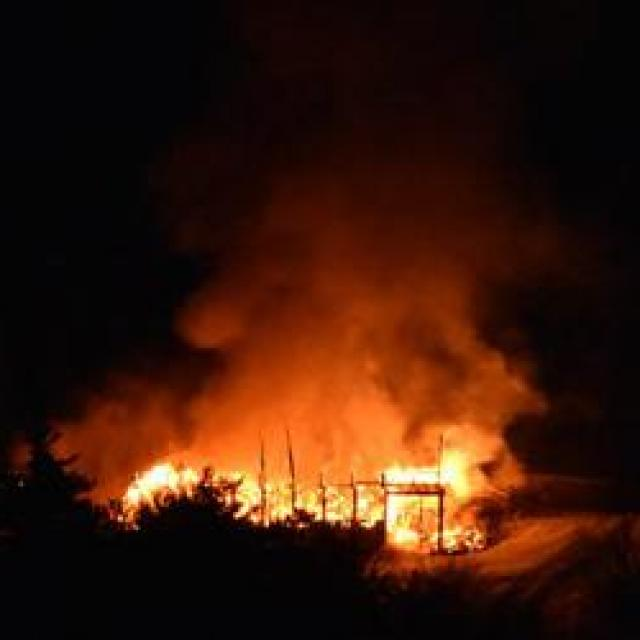fire: (380, 438, 472, 553), (119, 459, 201, 522)
smoke: (175, 220, 363, 450), (373, 210, 544, 422)
